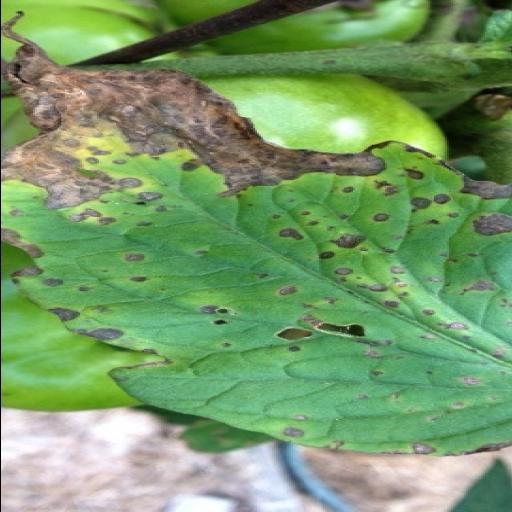disease_tomato: (0, 15, 505, 453)
